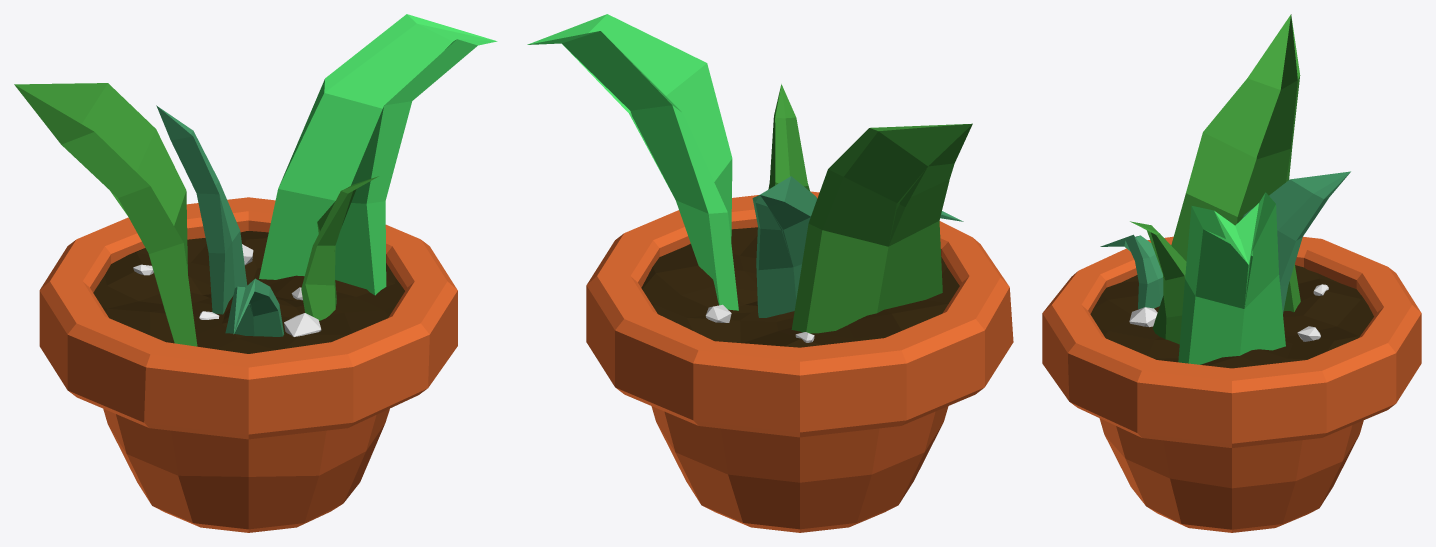
Rendered from suuuuccculent.fbx.
3 renders of one model, left to right at view 1: azimuth 30°, elevation 25°; view 2: azimuth 150°, elevation 25°; view 3: azimuth 270°, elevation 25°, orthographic. The views are drawn at different scales.
Visible parts, largest first — view 1: Aloe1; view 2: Aloe1; view 3: Aloe1.
Part boxes in pixels (<box>): Aloe1: <box>14,14,497,532</box>; Aloe1: <box>527,14,1013,532</box>; Aloe1: <box>1042,14,1421,532</box>.
Bounding box in the file's own units: 107 × 96.58 × 84.49.
